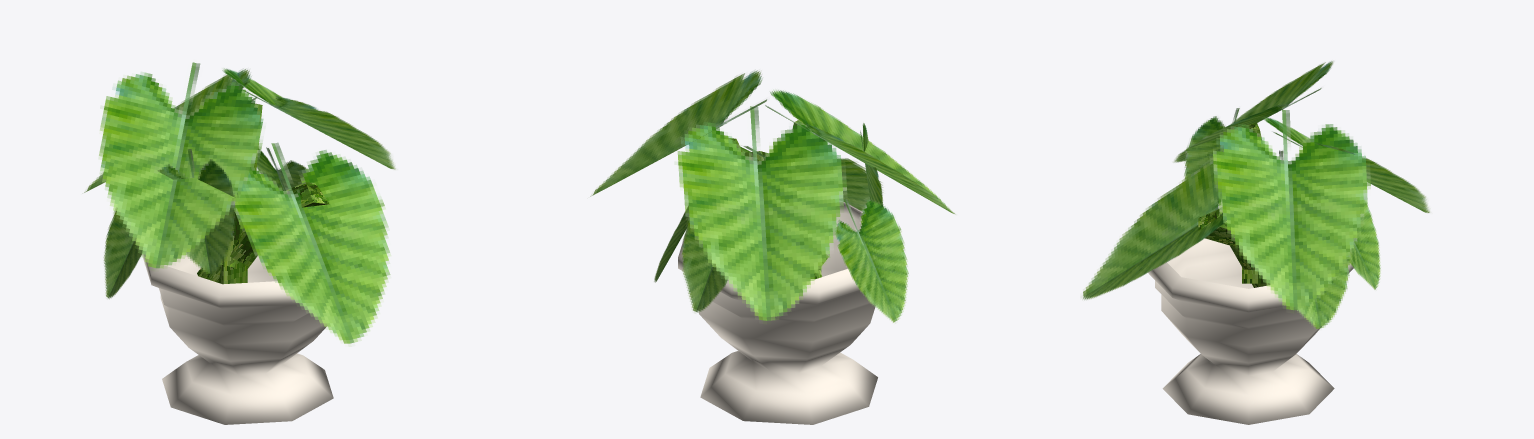
The model's file is potter_plant.glb.
3 views of the same model, side by side, from view 1: azimuth 30°, elevation 25°; view 2: azimuth 150°, elevation 25°; view 3: azimuth 270°, elevation 25° (orthographic). The views are drawn at different scales.
Visible parts, largest first — view 1: toilet.002; view 2: toilet.002; view 3: toilet.002.
Part boxes in pixels (bbox=[...]): toilet.002: bbox=[84, 62, 395, 424]; toilet.002: bbox=[590, 70, 955, 424]; toilet.002: bbox=[1083, 61, 1429, 424].
Size of the model in its own units: 1.31 by 0.99 by 1.29.
3 materials, 3 textured.
